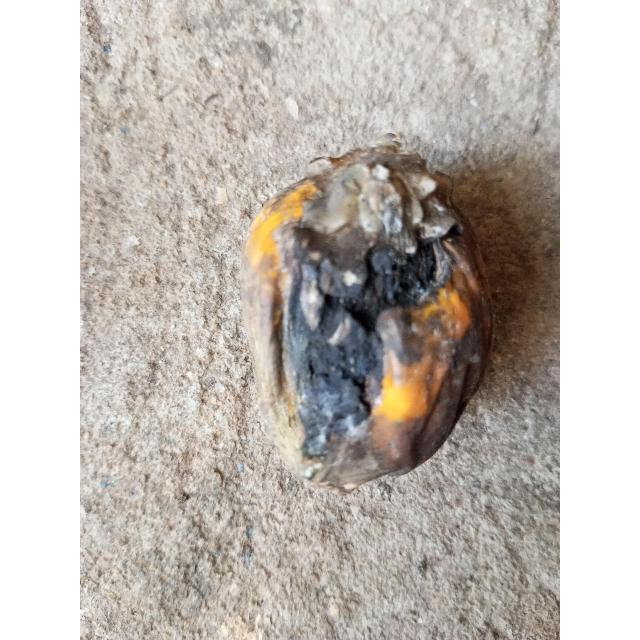.: (242, 145, 492, 495)
